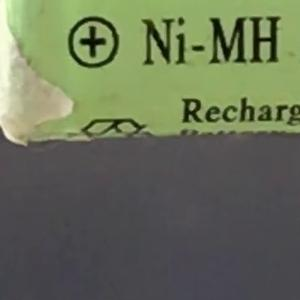keyword: (132, 6, 284, 75)
